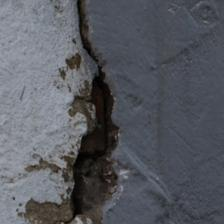Crack: (0, 5, 135, 71), (10, 37, 121, 72)
